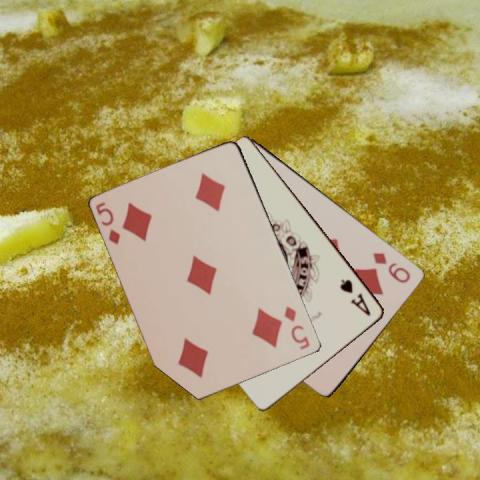5d: (282, 303, 312, 351), (93, 199, 122, 247)
9d: (370, 249, 413, 285)
As: (337, 276, 373, 317)
